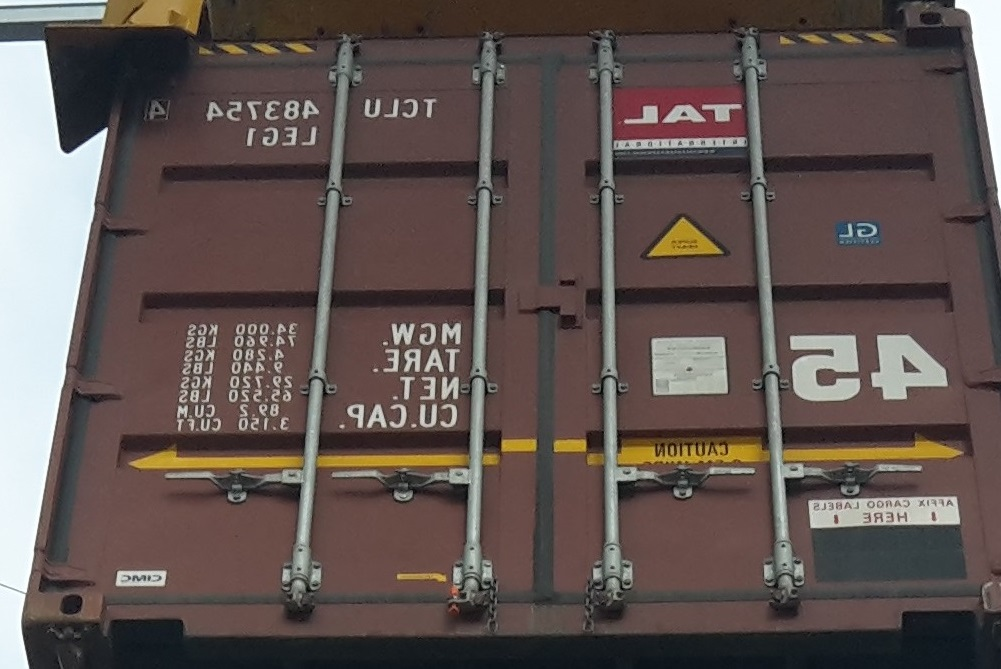container_door: (13, 3, 982, 640)
